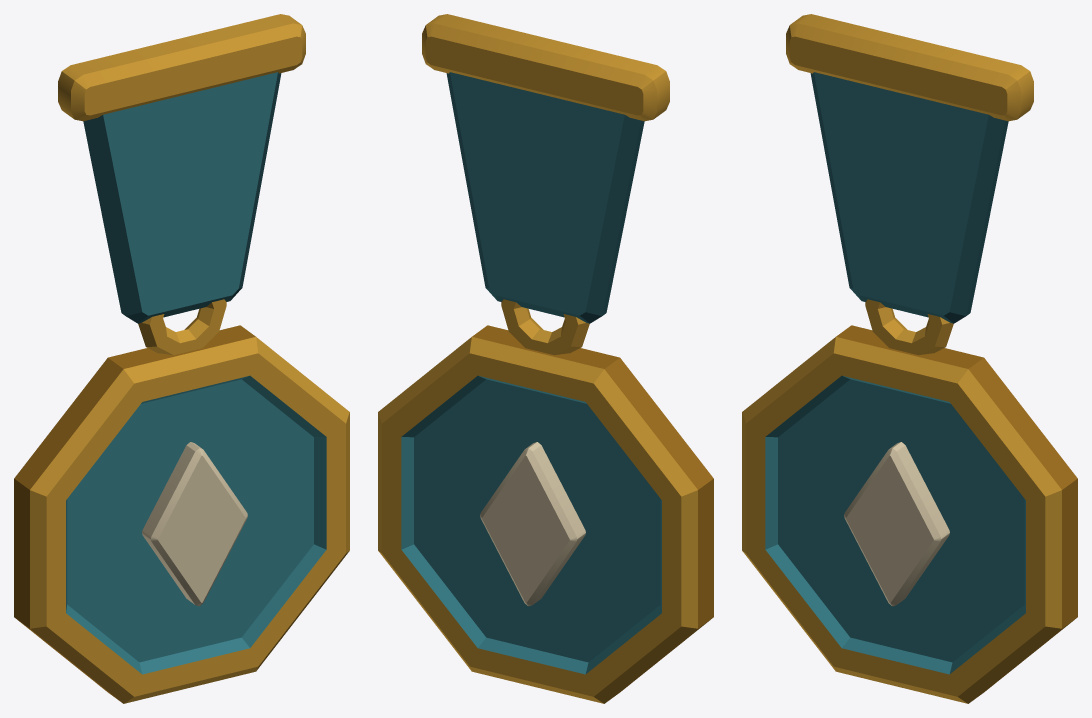
File: Medal_24.glb
3 renders of one model, left to right at view 1: azimuth 30°, elevation 25°; view 2: azimuth 150°, elevation 25°; view 3: azimuth 330°, elevation 25°, orthographic.
Visible parts, largest first — view 1: Medal_24; view 2: Medal_24; view 3: Medal_24.
Part boxes in pixels (<box>): Medal_24: <box>14,14,349,703</box>; Medal_24: <box>378,14,713,703</box>; Medal_24: <box>742,14,1077,703</box>.
Bounding box in the file's own units: 1.29 × 2.46 × 0.28.
